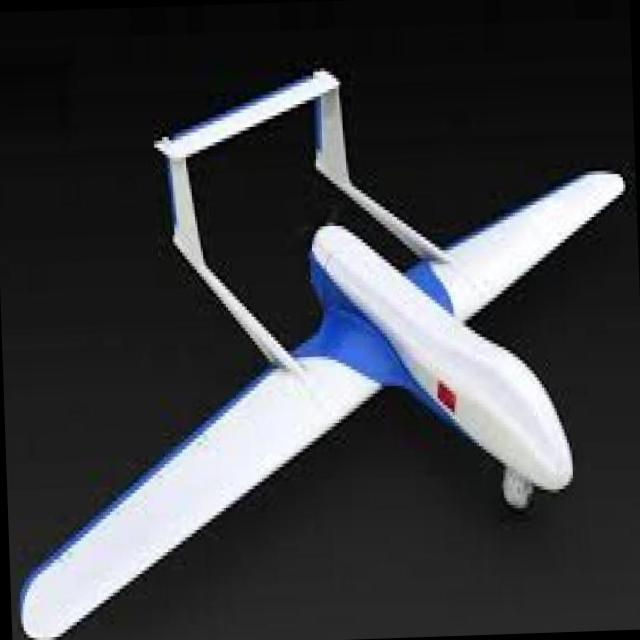UAV: (40, 65, 632, 634)
